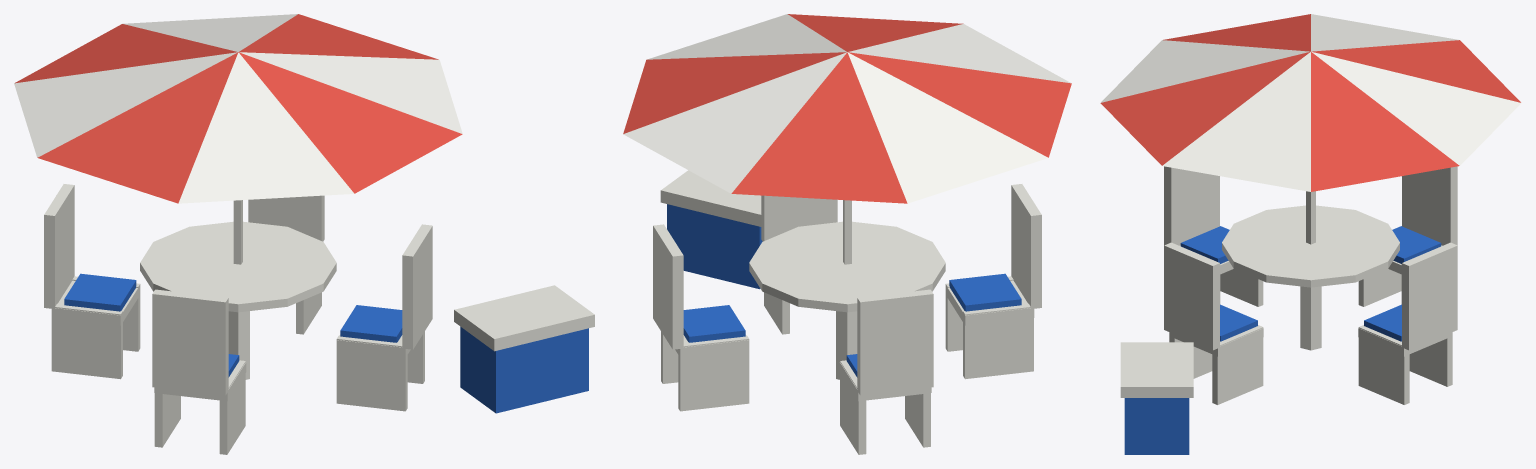
File: patio-set.glb
3 renders of one model, left to right at view 1: azimuth 30°, elevation 25°; view 2: azimuth 150°, elevation 25°; view 3: azimuth 270°, elevation 25°, orthographic. The views are drawn at different scales.
Parts seen in each view (by area): view 1: PatioSet_Patio, PatioSet_Umbrella2, PatioSet_Umbrella, PatioSet_Cooler; view 2: PatioSet_Patio, PatioSet_Umbrella, PatioSet_Umbrella2, PatioSet_Cooler; view 3: PatioSet_Patio, PatioSet_Umbrella2, PatioSet_Umbrella, PatioSet_Cooler.
Part boxes in pixels (box(x1,y1,x2,y2)): PatioSet_Patio: box(44, 184, 594, 454); PatioSet_Umbrella2: box(14, 14, 462, 203); PatioSet_Umbrella: box(15, 14, 462, 203); PatioSet_Cooler: box(64, 273, 588, 413); PatioSet_Patio: box(653, 170, 1041, 454); PatioSet_Umbrella: box(623, 14, 1071, 203); PatioSet_Umbrella2: box(623, 14, 1070, 203); PatioSet_Cooler: box(667, 204, 1021, 377); PatioSet_Patio: box(1120, 166, 1457, 404); PatioSet_Umbrella2: box(1101, 14, 1521, 191); PatioSet_Umbrella: box(1100, 14, 1520, 191); PatioSet_Cooler: box(1124, 226, 1441, 454).
Size of the model in its own units: 11.7 by 8 by 10.4.
